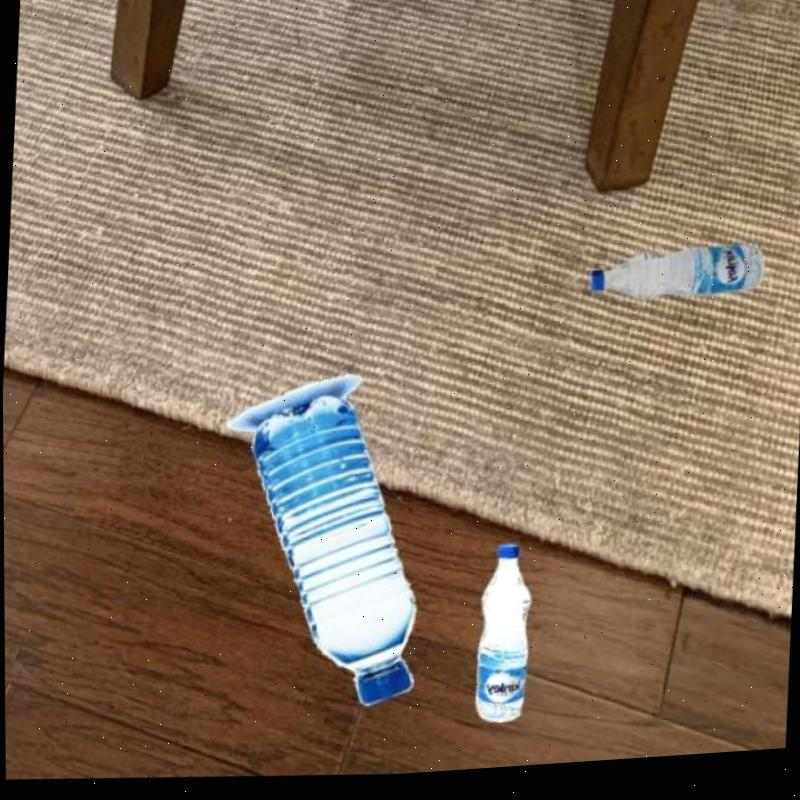botella: (236, 389, 428, 720), (586, 246, 763, 322), (470, 546, 534, 733)
